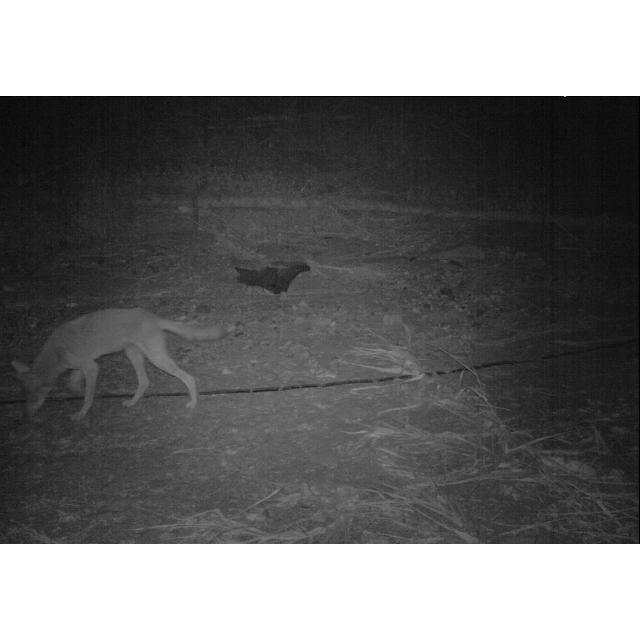animals: (11, 306, 240, 424)
